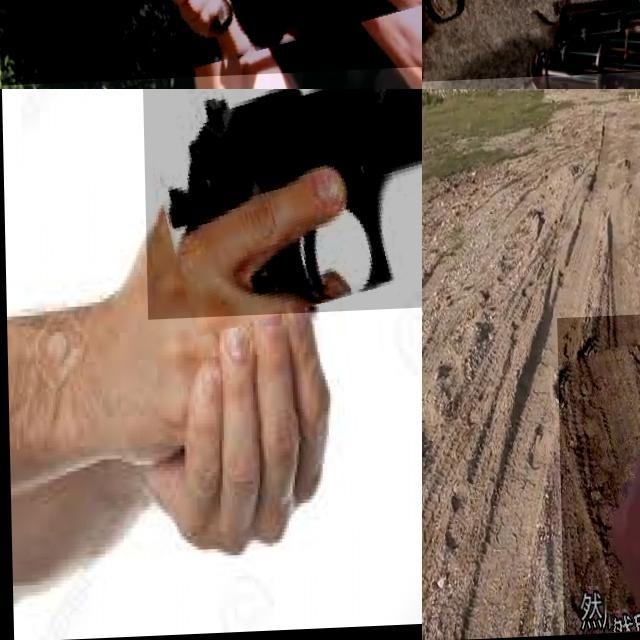gun-knife-thesis - v11 Yolov5 augmented: (141, 89, 422, 321), (0, 0, 422, 89), (555, 309, 640, 637), (422, 0, 640, 89), (442, 3, 640, 89)
